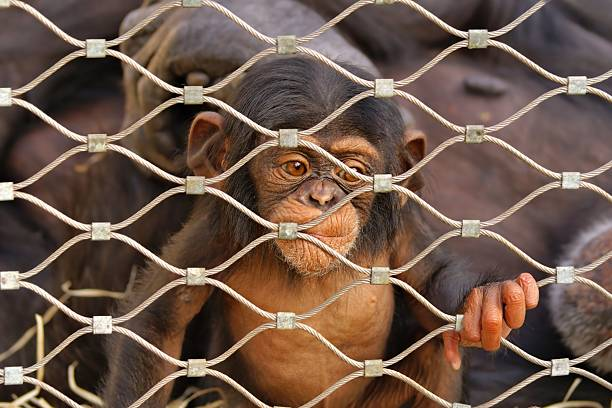chimpanzee: (186, 45, 450, 294)
